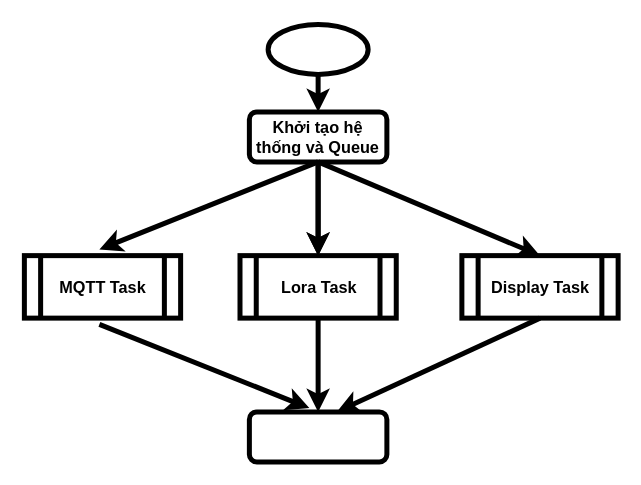
Some shapes in this 641 by 485 pixel diagram are drawn without their labels. The centre of each missing label's shape, as x and y in pixels:
"Khởi động Scheduler" belongs at point (317, 436).
"Start" belongs at point (317, 48).
